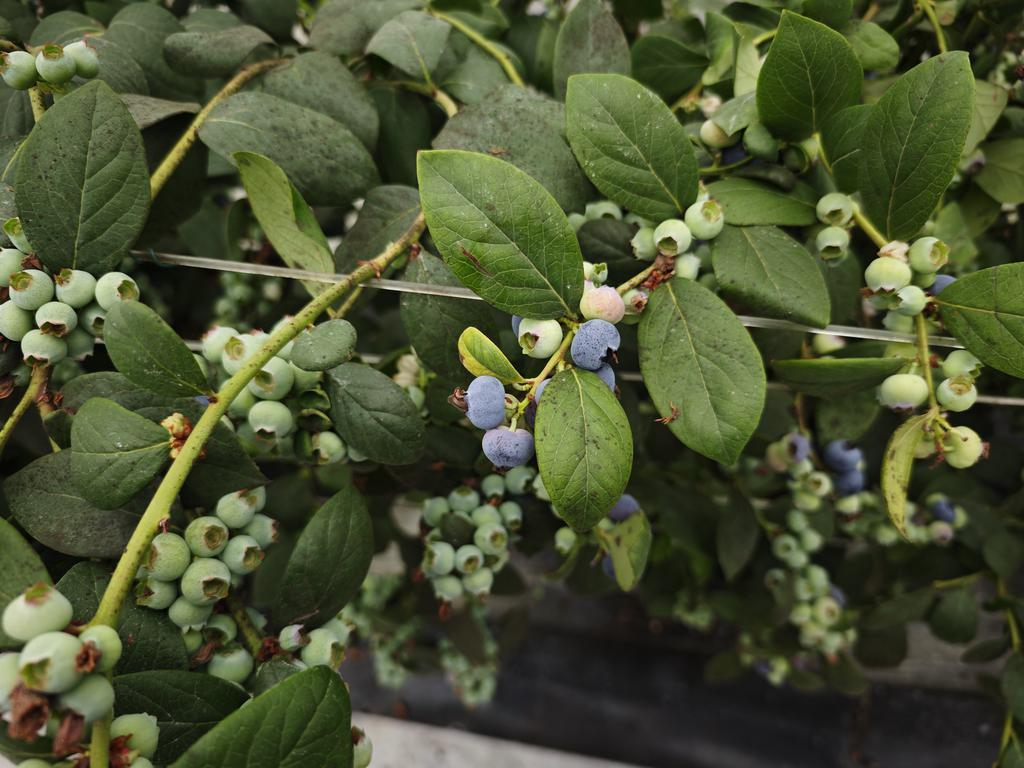RipeBlueBerry: (571, 318, 622, 371), (461, 374, 507, 430), (480, 426, 534, 472)
Semi-RipeBlueBerry: (580, 285, 625, 323)
UnripeBlueBerry: (180, 556, 234, 607), (246, 399, 293, 444), (516, 315, 563, 360)
